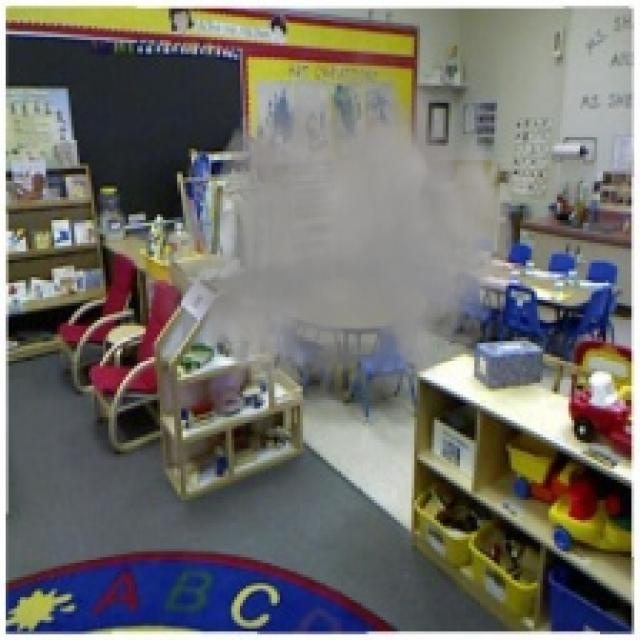smoke: (146, 34, 523, 423)
